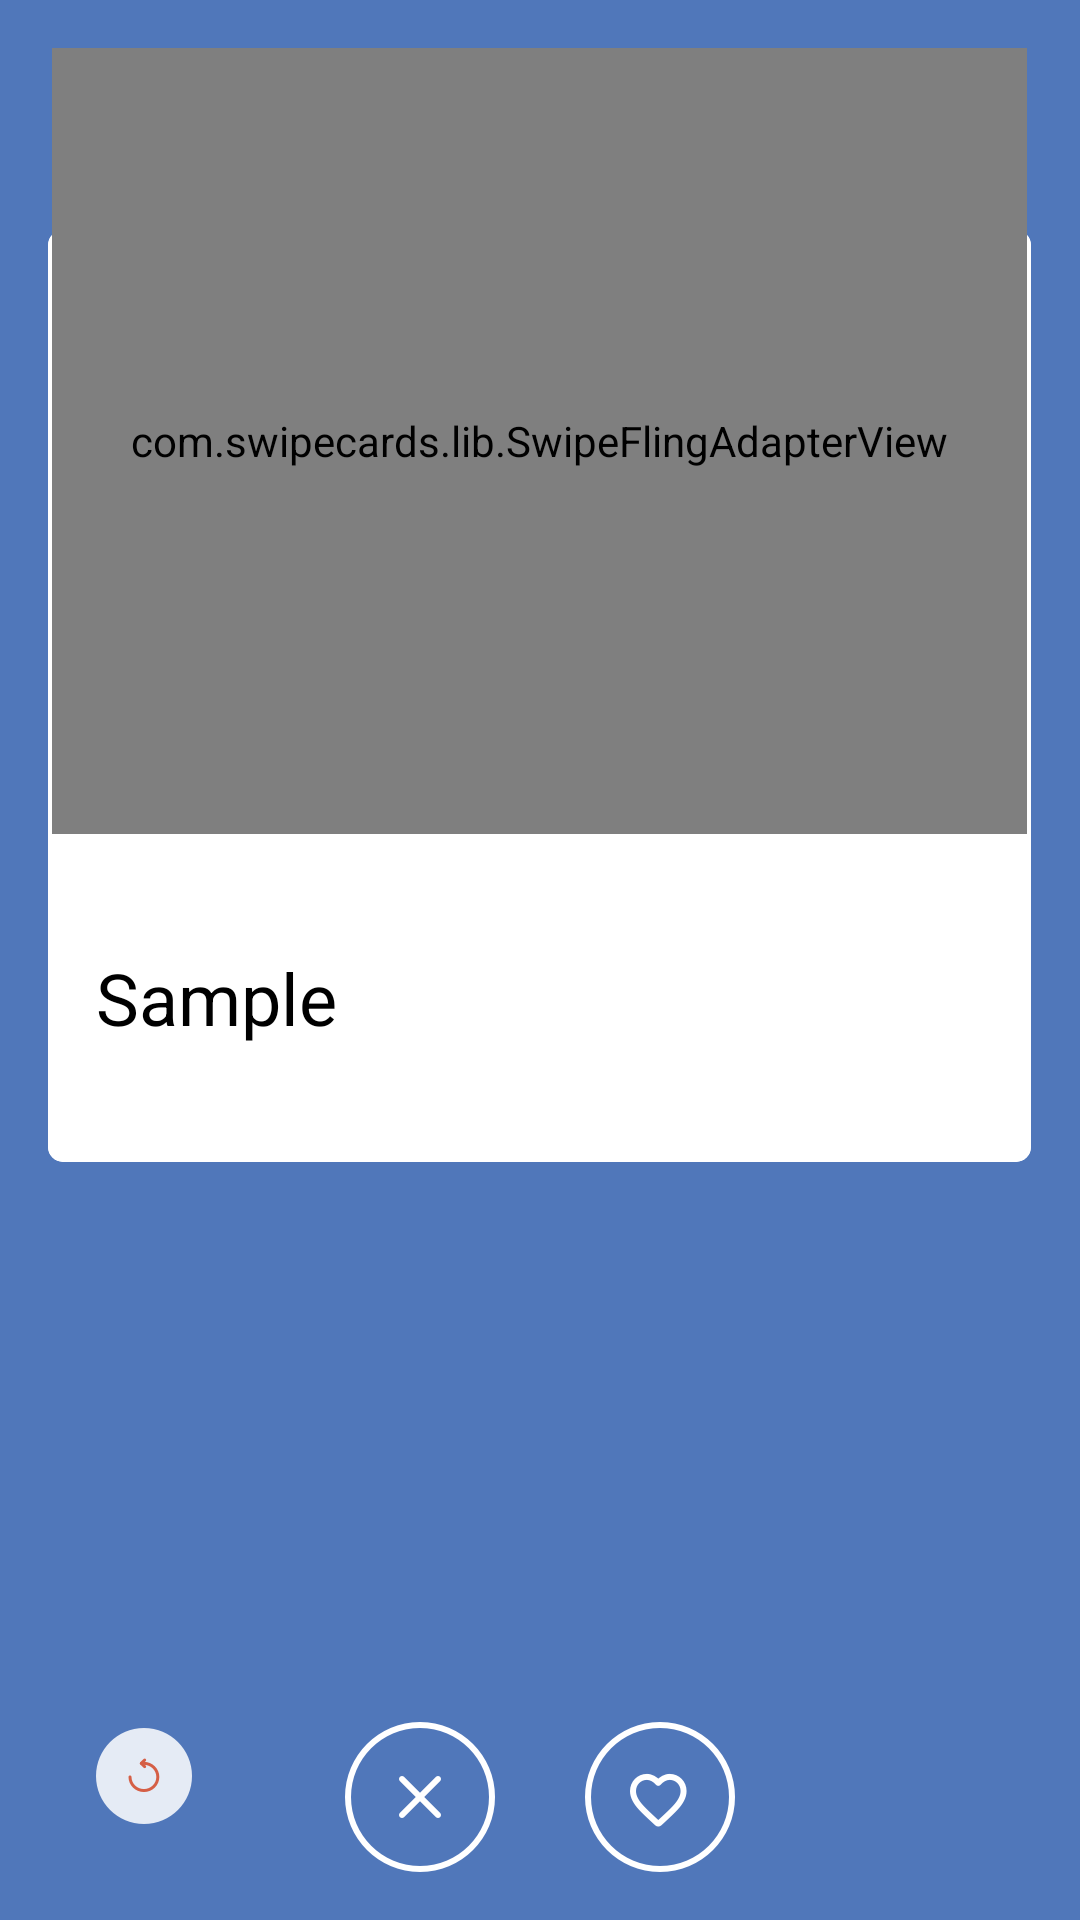

Icon bounding boxes for this 1080px x 1920px phone screenshot, format [x1, y1, x2, y2]:
dislike: [345, 1722, 495, 1872]
like: [585, 1722, 735, 1872]
undo: [96, 1728, 192, 1824]
